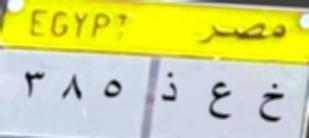3: (20, 66, 49, 104)
5: (103, 75, 125, 103)
8: (54, 69, 86, 110)
ain: (205, 78, 235, 125)
khaa: (254, 75, 288, 128)
zaal: (158, 70, 181, 108)
